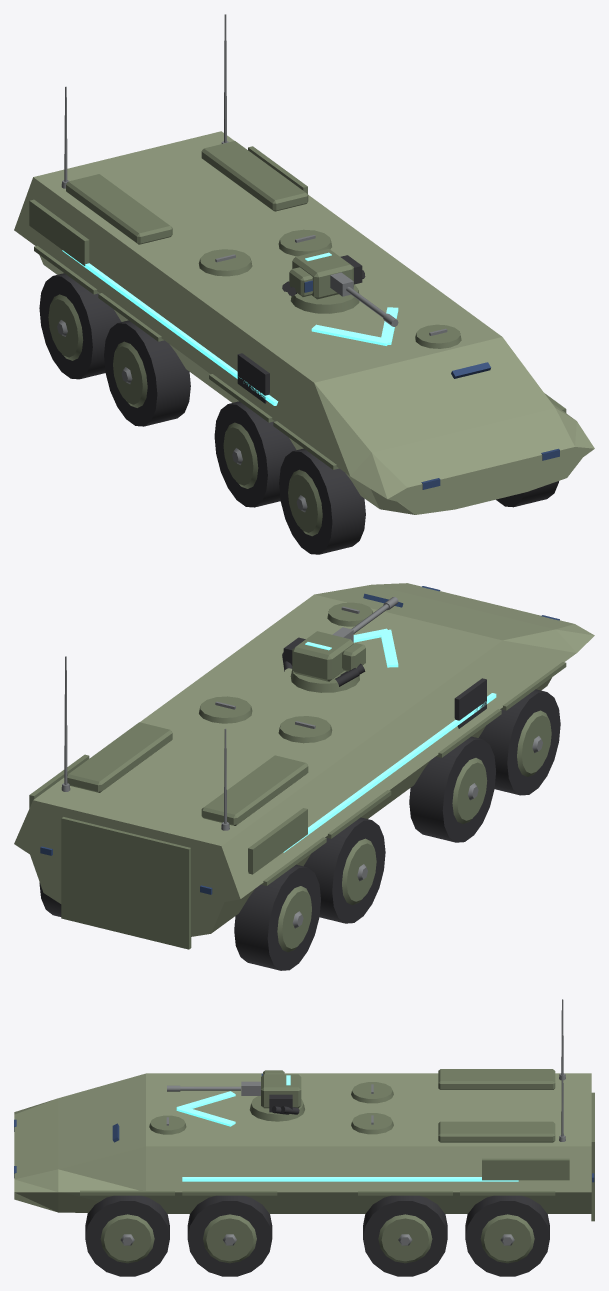
File: apc_blue.glb
3 renders of one model, top to bottom at view 1: azimuth 30°, elevation 25°; view 2: azimuth 150°, elevation 25°; view 3: azimuth 270°, elevation 25°, orthographic. The views are drawn at different scales.
Parts seen in each view (by area): view 1: body, turret, gun; view 2: body, turret, gun; view 3: body, turret, gun.
Boxes of the visible parts, x1,y1,x2,y2 form: body: (14, 14, 594, 554); turret: (282, 249, 365, 313); gun: (330, 272, 398, 326); body: (14, 583, 594, 970); turret: (282, 631, 365, 692); gun: (332, 597, 398, 642); body: (14, 999, 594, 1276); turret: (249, 1070, 304, 1121); gun: (167, 1081, 260, 1095).
Size of the model in its own units: 3.01 by 3.45 by 7.95.
